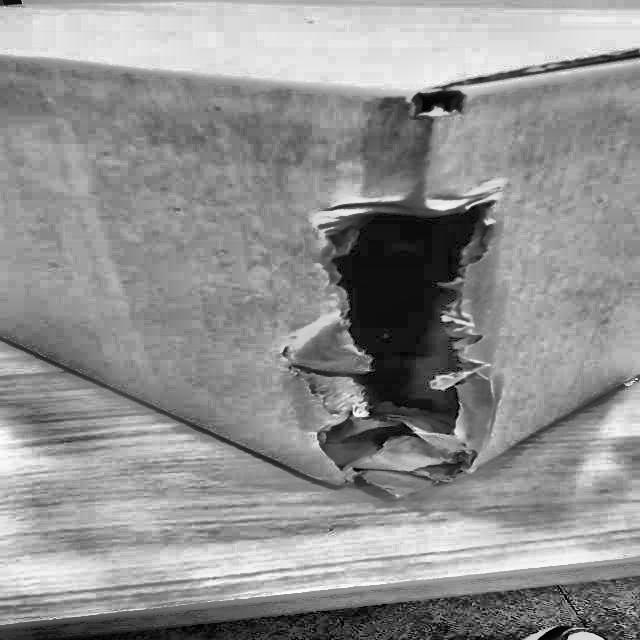box: (0, 5, 639, 524)
hole: (277, 179, 507, 492)
